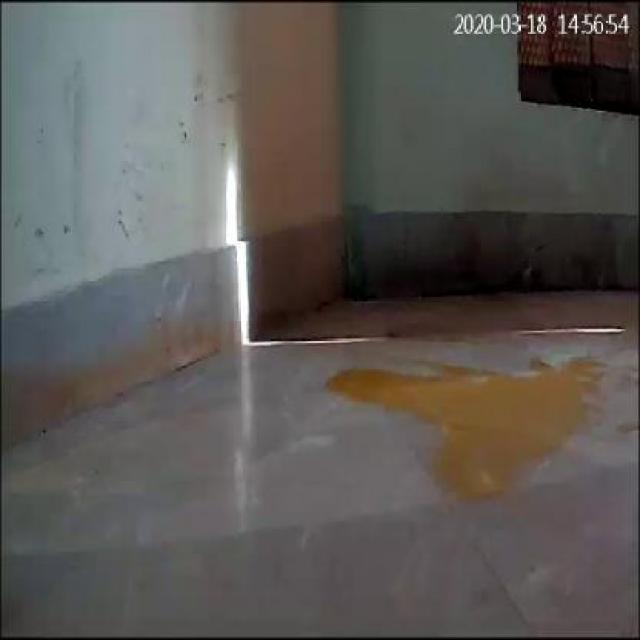spill: (326, 357, 602, 508)
